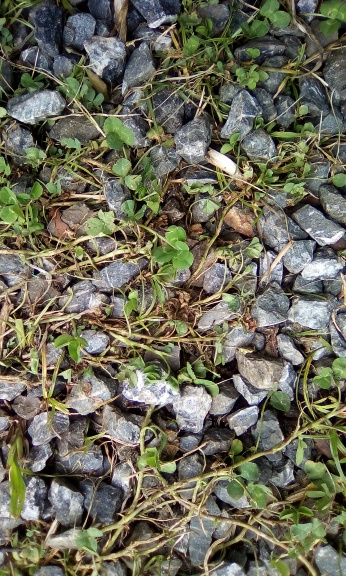4leaf: (151, 224, 195, 271)
